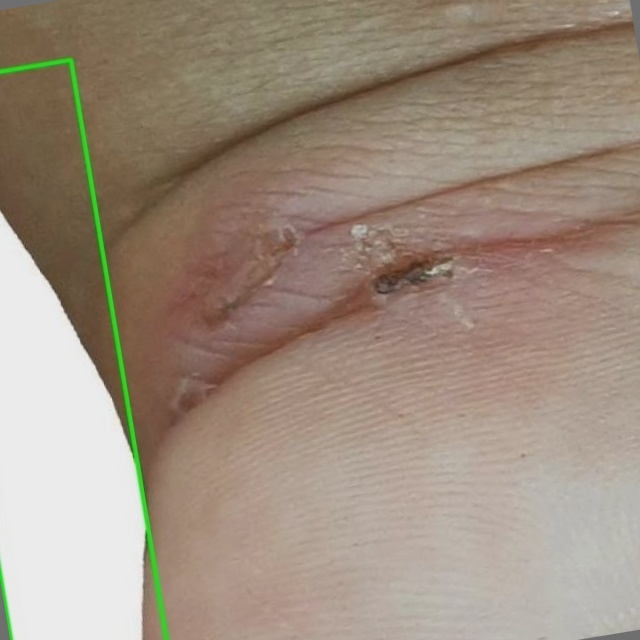Scabies: (0, 59, 166, 639)
